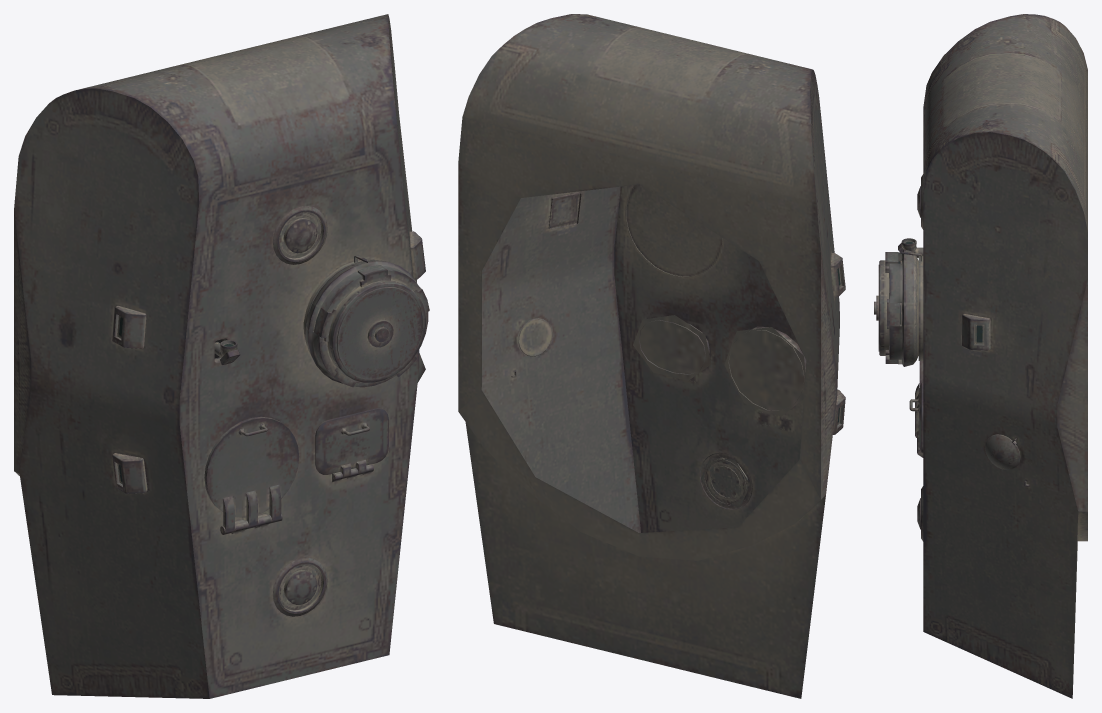
The model's file is Turret_01.glb.
The picture shows the model from 3 angles, left to right: view 1: azimuth 30°, elevation 25°; view 2: azimuth 150°, elevation 25°; view 3: azimuth 270°, elevation 25°; orthographic projection. The views are drawn at different scales.
Parts seen in each view (by area): view 1: set_0_group_0; view 2: set_0_group_0; view 3: set_0_group_0.
Part boxes in pixels (<box>): set_0_group_0: <box>14,14,429,698</box>; set_0_group_0: <box>458,14,845,698</box>; set_0_group_0: <box>874,14,1087,698</box>.
Size of the model in its own units: 2.99 by 4.62 by 1.62.
1 material, 1 textured.
